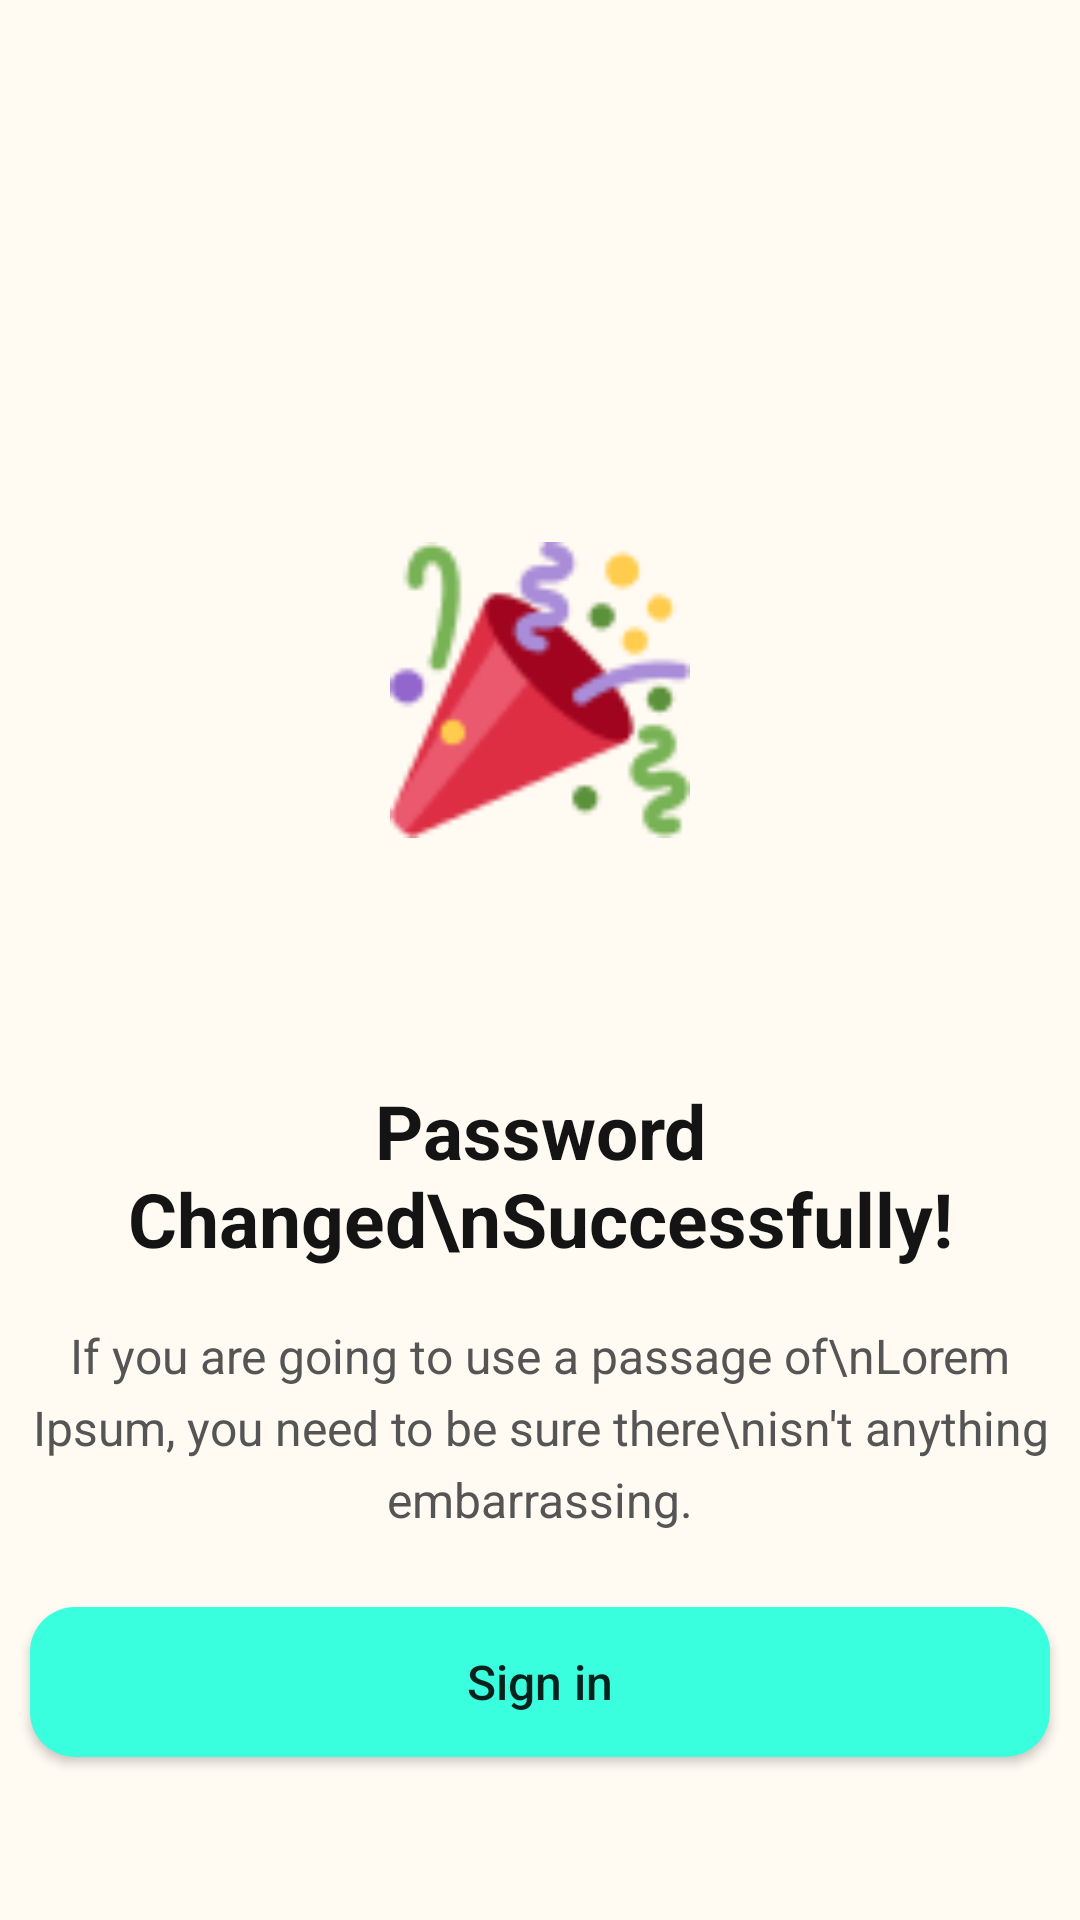

Point at icon controls on the screen. Image size 1080 x 1920, points as (x=x, y=y).
successemoji: (x=540, y=690)
